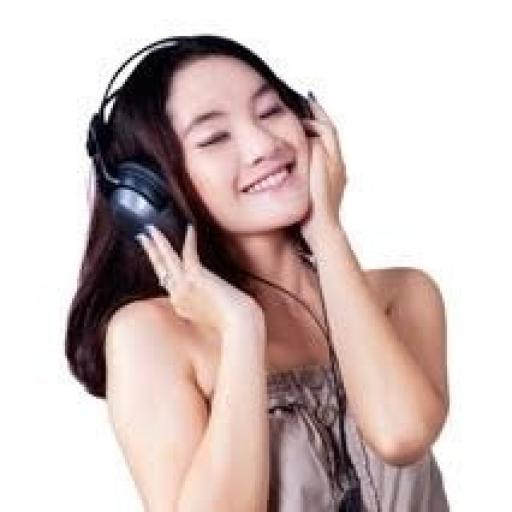listening_to_music: (62, 31, 464, 510)
